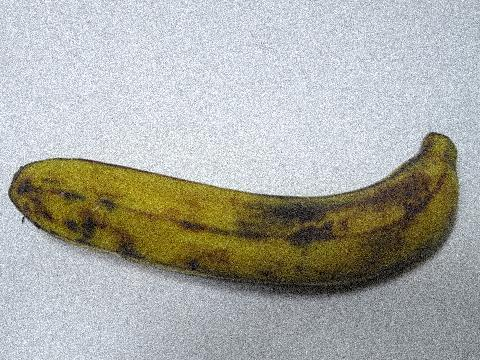overripe: (12, 121, 475, 312)
